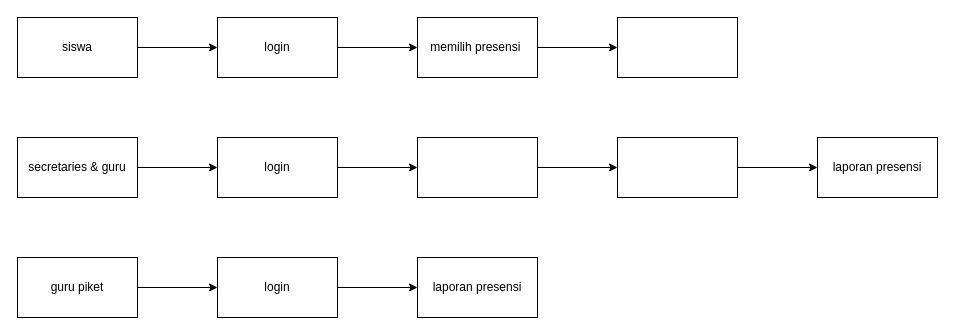
Image size: 955x335. Some labels were removed from this diagram. The shapes that lost their labels are listed below. From the top down, each one's box as (x1, y1, x2, y2) in pixels, then its label:
(616, 16, 738, 78): Mengisi presensi
(416, 136, 538, 198): mengecek presensi
(616, 136, 738, 198): memperivikasi presesnsi
